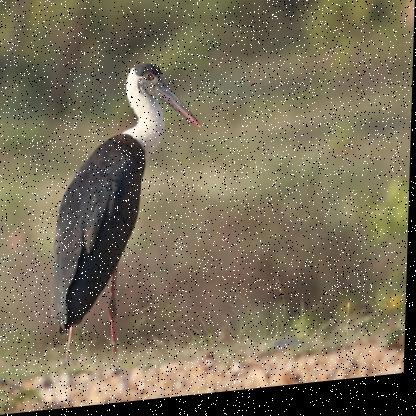Burung: (52, 61, 205, 367)
